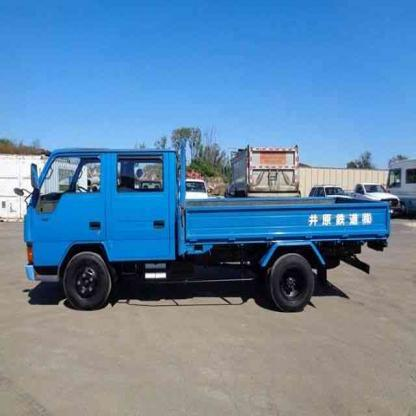truck: (25, 148, 390, 312)
